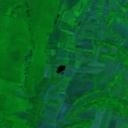alloviz: (55, 63, 66, 74)
